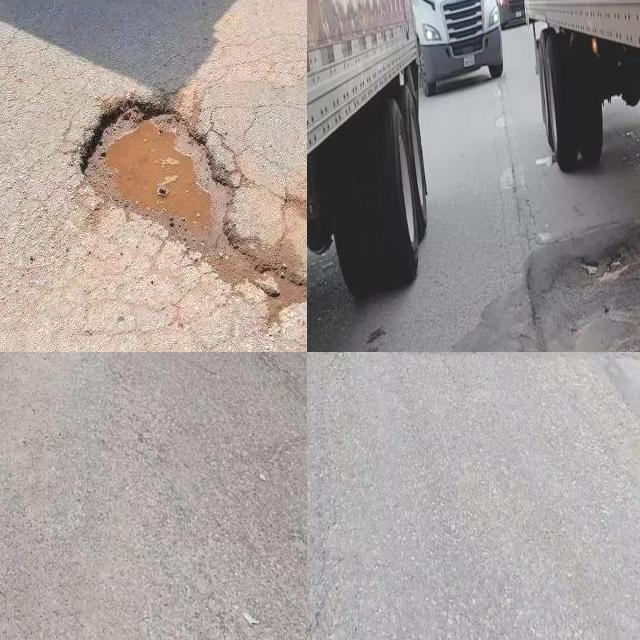Pothole: (80, 101, 307, 327), (540, 236, 640, 352)
